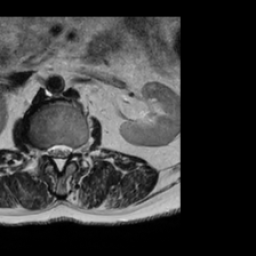CCS_normal: (55, 136, 63, 176)
LFS_stenosis: (71, 141, 79, 160)
LLS_normal: (63, 141, 72, 163)
RFS_stenosis: (39, 140, 48, 160)
RLS_normal: (47, 140, 55, 164)
